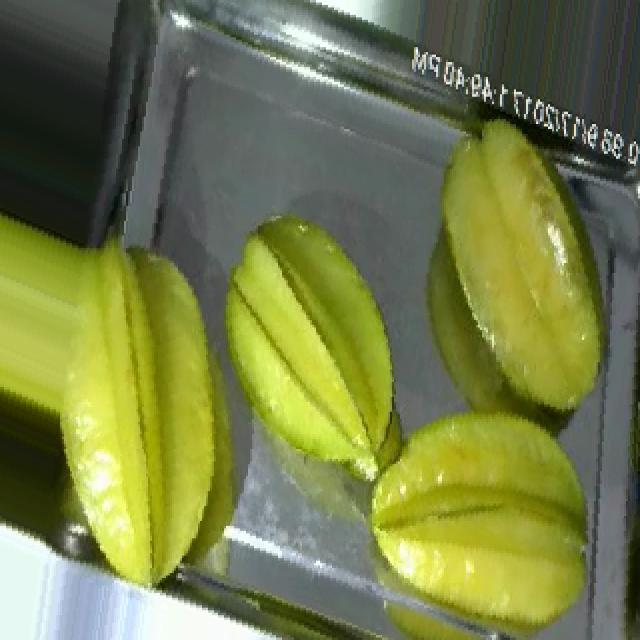fruit: (0, 201, 286, 580), (392, 102, 640, 444), (198, 178, 432, 498), (340, 367, 610, 640)
